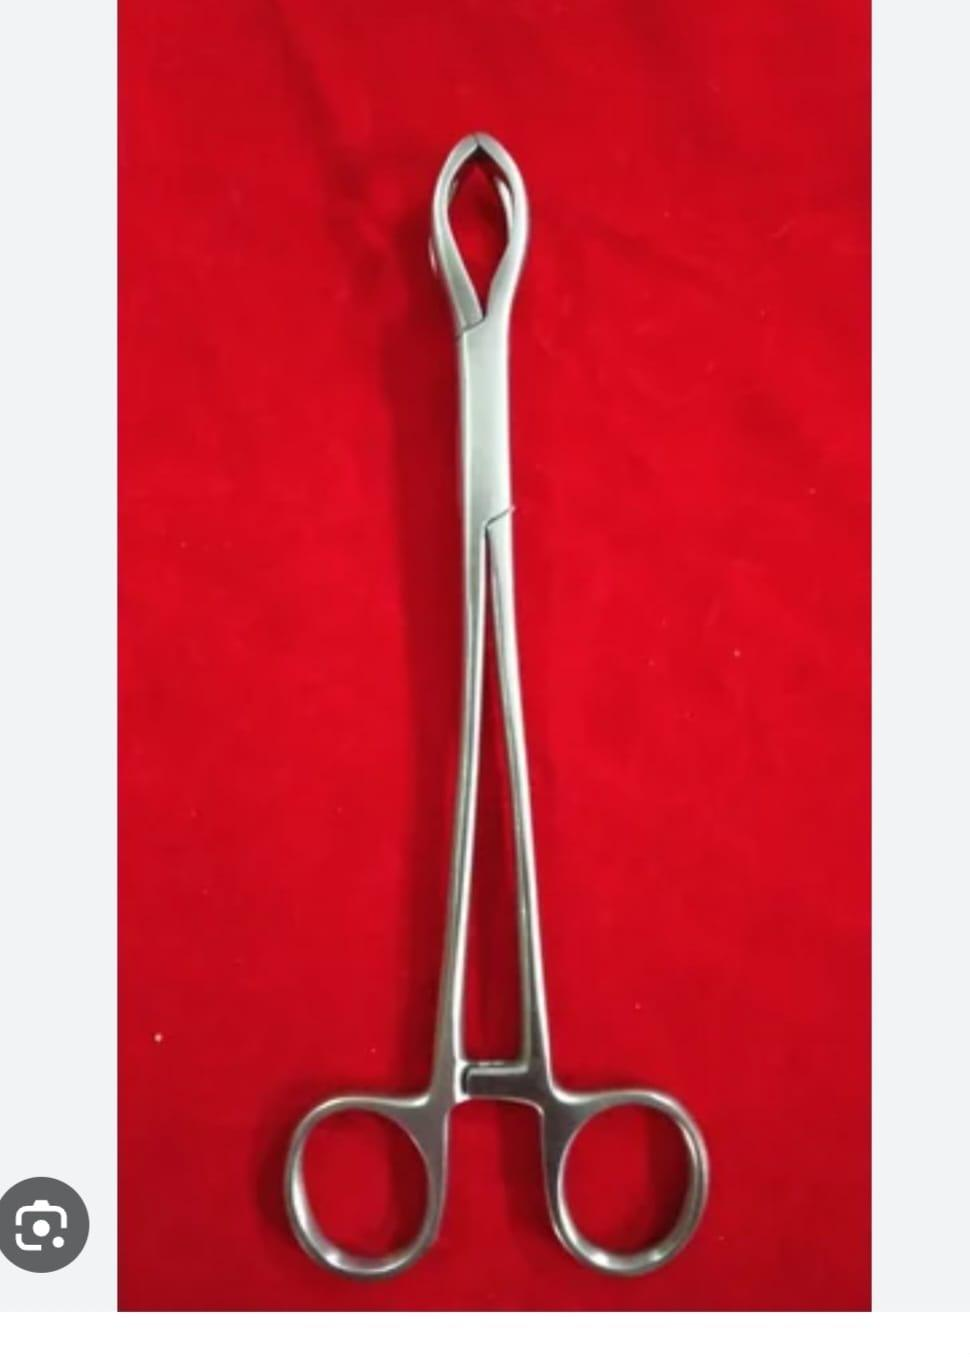Lane Tissue Forceps: (280, 120, 722, 1290)
